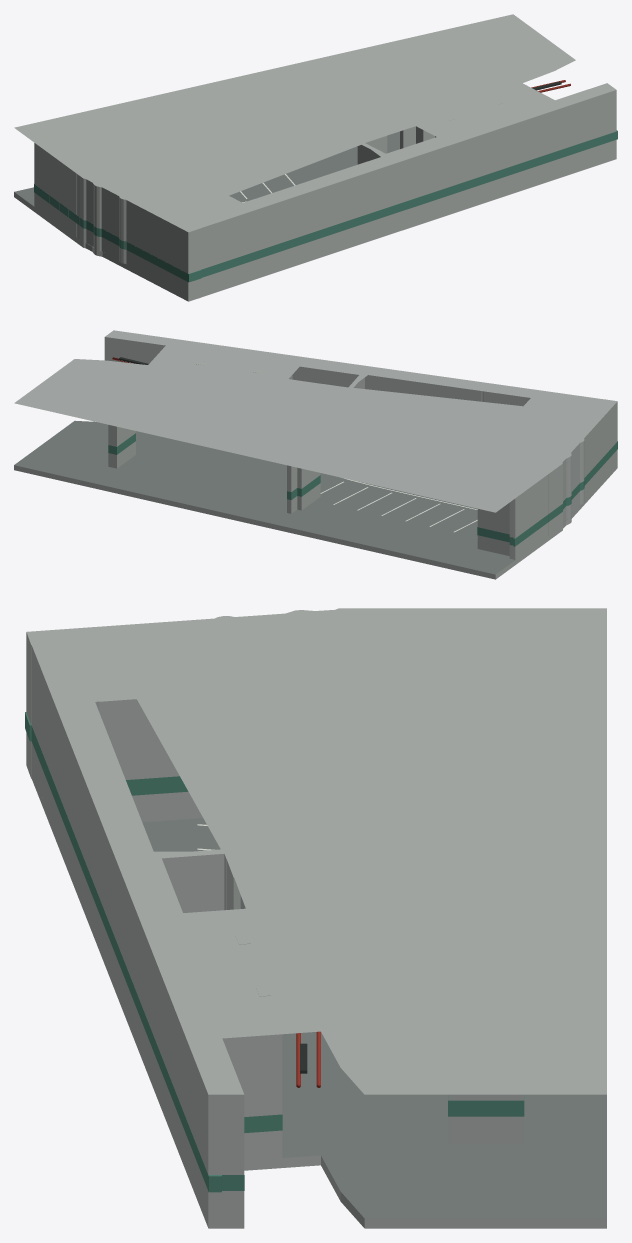
Rendered from B01-south-parking.glb.
The picture shows the model from 3 angles, top to bottom: view 1: azimuth 30°, elevation 25°; view 2: azimuth 150°, elevation 25°; view 3: azimuth 270°, elevation 25°; orthographic projection. The views are drawn at different scales.
Parts seen in each view (by area): view 1: ASSUMED | ceiling2.70 above floor, SOURCE WALL 178, SOURCE WALL 153, PROPOSED | identity band.011, SCENE CUT | slab edge.008, SOURCE GRADES | interpolated floor, PROPOSED | identity band.007, SOURCE WALL 1001, SOURCE WALL 1005, SOURCE WALL 1007, SOURCE WALL 1004, SOURCE WALL 1002 (+2 smaller); view 2: ASSUMED | ceiling2.70 above floor, SOURCE GRADES | interpolated floor, SOURCE WALL 153, SCENE CUT | slab edge.001, SOURCE WALL 180, SOURCE WALL 191, SOURCE WALL 1126, SOURCE WALL 436, SOURCE WALL 40, SOURCE WALL 41, PROPOSED | identity band.007, SOURCE WALL 178 (+5 smaller); view 3: ASSUMED | ceiling2.70 above floor, SOURCE GRADES | interpolated floor, SOURCE WALL 178, SOURCE WALL 464, SOURCE WALL 140, PROPOSED | identity band.011, SOURCE WALL 151, SOURCE WALL 40, SCENE CUT | slab edge.002, SCENE CUT | slab edge.008, SOURCE WALL 153, SOURCE WALL 430 (+3 smaller).
Part boxes in pixels (<box>): ASSUMED | ceiling2.70 above floor: <box>14,14,616,232</box>; SOURCE WALL 178: <box>193,90,616,292</box>; SOURCE WALL 153: <box>34,142,200,296</box>; PROPOSED | identity band.011: <box>201,130,617,277</box>; SCENE CUT | slab edge.008: <box>200,154,616,297</box>; SOURCE GRADES | interpolated floor: <box>14,131,399,252</box>; PROPOSED | identity band.007: <box>34,184,201,282</box>; SOURCE WALL 1001: <box>49,153,59,222</box>; SOURCE WALL 1005: <box>93,180,105,250</box>; SOURCE WALL 1007: <box>119,193,134,263</box>; SOURCE WALL 1004: <box>79,173,94,242</box>; SOURCE WALL 1002: <box>59,160,70,230</box>; ASSUMED | ceiling2.70 above floor: <box>14,330,615,512</box>; SOURCE GRADES | interpolated floor: <box>14,420,567,574</box>; SOURCE WALL 153: <box>513,401,617,559</box>; SCENE CUT | slab edge.001: <box>14,465,495,579</box>; SOURCE WALL 180: <box>365,375,526,406</box>; SOURCE WALL 191: <box>477,483,516,555</box>; SOURCE WALL 1126: <box>175,346,358,387</box>; SOURCE WALL 436: <box>104,337,165,364</box>; SOURCE WALL 40: <box>108,398,135,468</box>; SOURCE WALL 41: <box>293,433,320,510</box>; PROPOSED | identity band.007: <box>513,441,617,546</box>; SOURCE WALL 178: <box>113,330,525,394</box>; ASSUMED | ceiling2.70 above floor: <box>26,608,606,1094</box>; SOURCE GRADES | interpolated floor: <box>142,818,606,1218</box>; SOURCE WALL 178: <box>31,643,228,1218</box>; SOURCE WALL 464: <box>97,687,220,822</box>; SOURCE WALL 140: <box>222,1031,282,1160</box>; PROPOSED | identity band.011: <box>31,726,221,1192</box>; SOURCE WALL 151: <box>162,849,224,912</box>; SOURCE WALL 40: <box>448,1012,523,1144</box>; SCENE CUT | slab edge.002: <box>364,1218,606,1228</box>; SCENE CUT | slab edge.008: <box>31,769,208,1227</box>; SOURCE WALL 153: <box>26,608,523,768</box>; SOURCE WALL 430: <box>221,1094,235,1218</box>.
Size of the model in its own units: 22.07 by 3.27 by 11.51.
